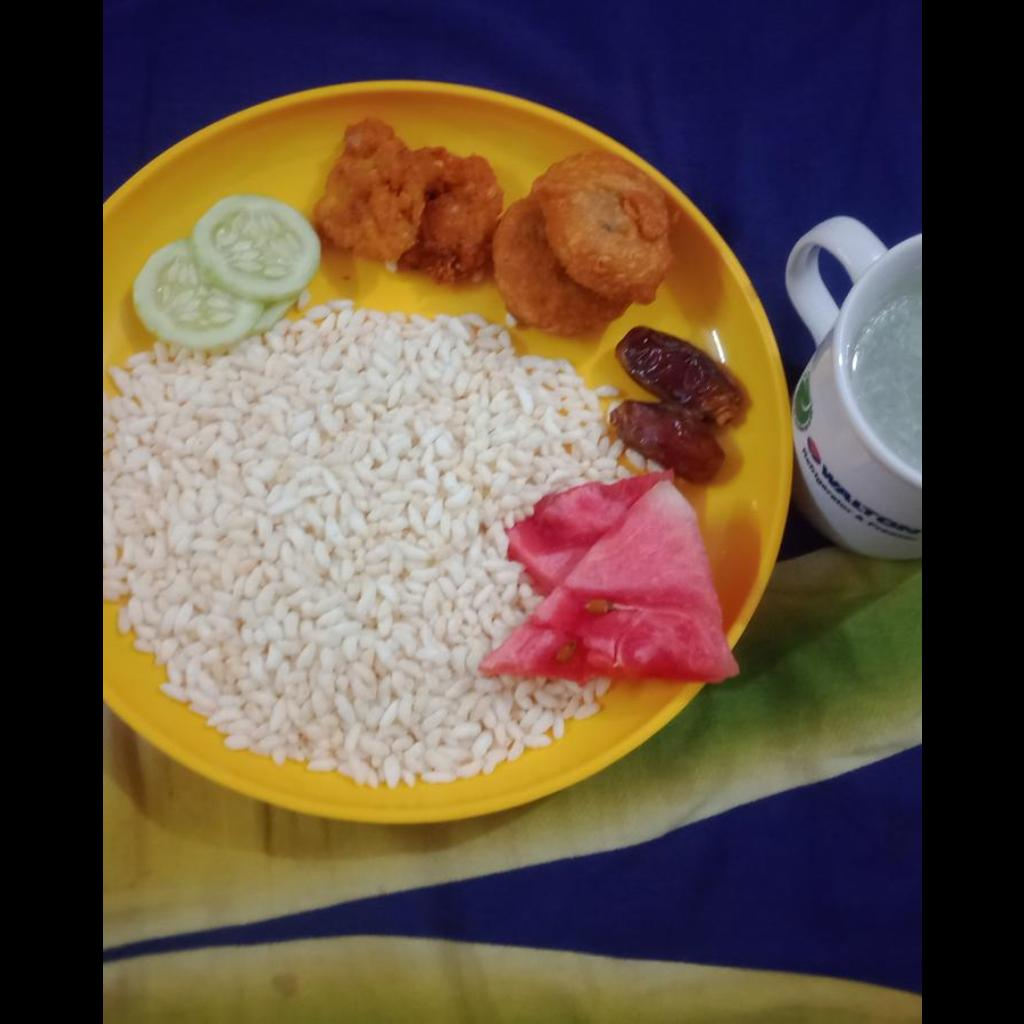chop-alu: (499, 144, 676, 339)
cucumber: (129, 196, 315, 349)
daal: (851, 278, 920, 471)
dates: (611, 323, 753, 481)
peyaju: (326, 117, 499, 289)
puffed-rice: (102, 305, 627, 784)
watermelon: (467, 479, 731, 678)
